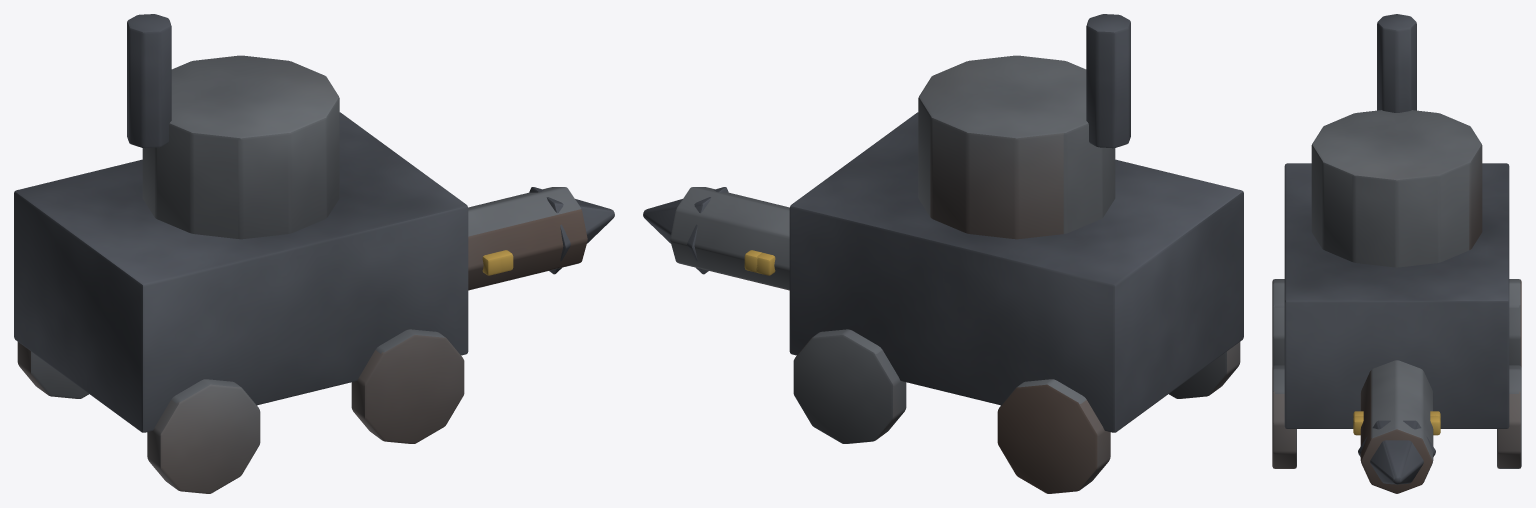
Rendered from unit_university_earth_breaker.fbx.
The picture shows the model from 3 angles, left to right: view 1: azimuth 30°, elevation 25°; view 2: azimuth 150°, elevation 25°; view 3: azimuth 270°, elevation 25°; orthographic projection. The views are drawn at different scales.
Visible parts, largest first — view 1: unit_university_earth_breaker; view 2: unit_university_earth_breaker; view 3: unit_university_earth_breaker.
Part boxes in pixels (box(x1,y1,x2,y2)): unit_university_earth_breaker: box(14, 14, 614, 493); unit_university_earth_breaker: box(643, 14, 1243, 493); unit_university_earth_breaker: box(1272, 14, 1521, 493).
Bounding box in the file's own units: 2.62 × 1.95 × 1.22.
